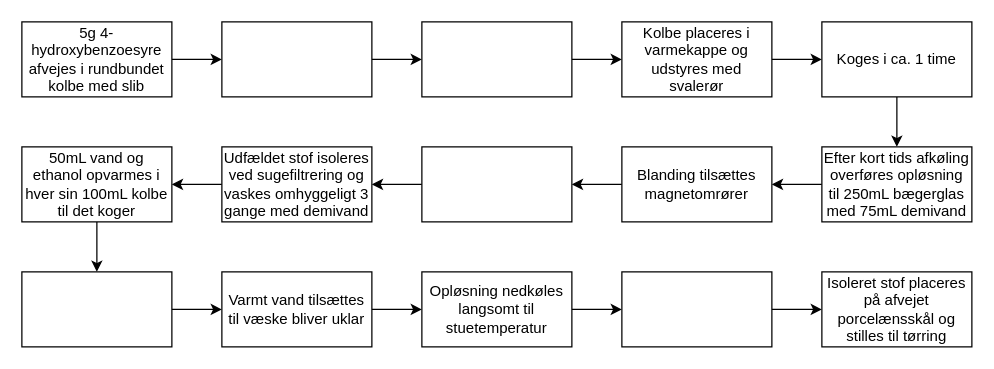
This 994x369 diagram has some shape labels left out. The centre of each missing label's shape, as x and y in pixels:
"2.5mL konc. svovlsyre tilsættes dræbevis under let omrystning" belongs at pixel 496 59.
"30mL alkohol overføres til kolben med måleglas og syre opløses" belongs at pixel 296 59.
"Natriumcarbonat opløsning tilsættes til gasudvikling eller udfældning stopper" belongs at pixel 496 184.
"Paraben opløses i så lidt varm ethanol som muligt under omrøring med spatel" belongs at pixel 96 309.
"Udfældede krystaller isoleres ved sugefiltrering" belongs at pixel 696 309.
